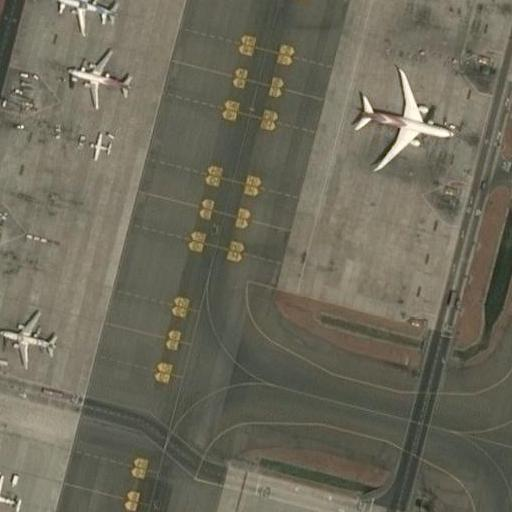Aircraft: (350, 62, 458, 175), (63, 51, 133, 108), (0, 309, 60, 369), (46, 0, 120, 35), (0, 474, 25, 512), (84, 130, 114, 159)
